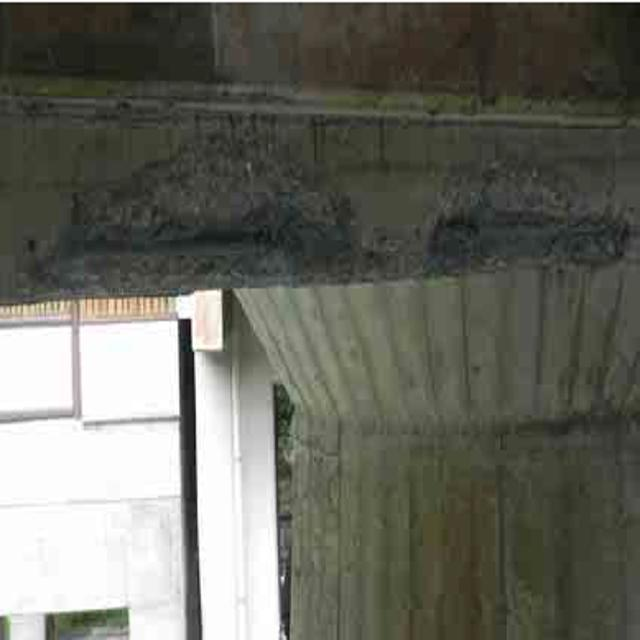spalling: (34, 140, 409, 306), (433, 176, 640, 296)
